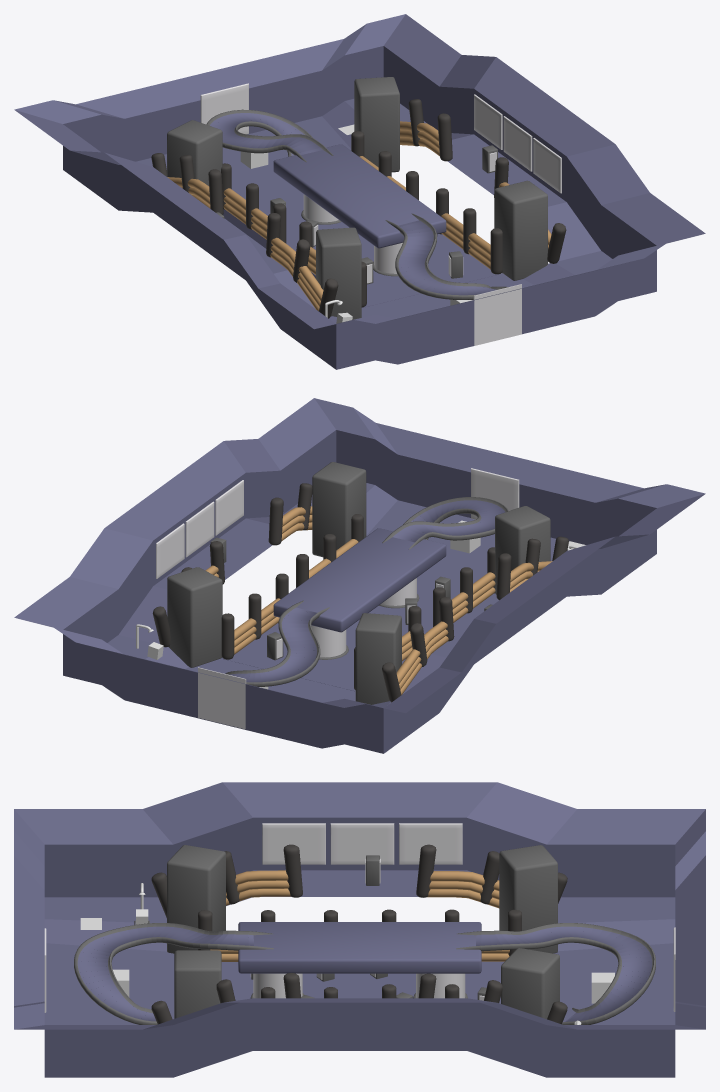
The model's file is NewMap.glb.
3 renders of one model, top to bottom at view 1: azimuth 30°, elevation 25°; view 2: azimuth 150°, elevation 25°; view 3: azimuth 270°, elevation 25°, orthographic. The views are drawn at different scales.
Visible parts, largest first — view 1: Plane.001, Cube, Plane, Cube.008, Cube.010, DummyRamp.001, DummyRamp.004, Cube.009, Cube.011, Cube.014, SO_INDICATOR_INCLUDEMESH_CYLINDER_TEAM2_.001, SO_INDICATOR_INCLUDEMESH_CYLINDER_TEAM2_.004 (+15 smaller); view 2: Plane.001, Cube, Cube.010, Plane, Cube.008, Cube.011, DummyRamp.001, DummyRamp.004, Cube.009, Cube.001, Cube.014, SO_INDICATOR_INCLUDEMESH_CYLINDER_TEAM1_.001 (+15 smaller); view 3: Plane.001, Cube, DummyRamp.004, DummyRamp.001, Cube.009, Cube.011, Plane, Cube.010, Cube.008, Cube.005, Cube.007, Cube.006 (+12 smaller).
Part boxes in pixels (<box>): Plane.001: <box>14,14,705,369</box>; Cube: <box>273,144,446,248</box>; Plane: <box>223,188,498,307</box>; Cube.008: <box>494,180,547,280</box>; Cube.010: <box>354,77,399,172</box>; DummyRamp.001: <box>385,213,508,299</box>; DummyRamp.004: <box>206,109,333,162</box>; Cube.009: <box>316,227,361,319</box>; Cube.011: <box>167,120,222,185</box>; Cube.014: <box>473,284,521,345</box>; SO_INDICATOR_INCLUDEMESH_CYLINDER_TEAM2_.001: <box>436,188,502,274</box>; SO_INDICATOR_INCLUDEMESH_CYLINDER_TEAM2_.004: <box>266,213,338,318</box>; Plane.001: <box>14,398,705,753</box>; Cube: <box>273,528,446,632</box>; Cube.010: <box>167,567,222,667</box>; Plane: <box>221,572,498,691</box>; Cube.008: <box>312,462,366,557</box>; Cube.011: <box>355,613,401,704</box>; DummyRamp.001: <box>382,497,508,549</box>; DummyRamp.004: <box>225,600,329,686</box>; Cube.009: <box>495,506,550,594</box>; Cube.001: <box>198,667,246,729</box>; Cube.014: <box>471,468,519,519</box>; SO_INDICATOR_INCLUDEMESH_CYLINDER_TEAM1_.001: <box>382,597,454,702</box>; Plane.001: <box>14,782,705,1077</box>; Cube: <box>238,922,481,973</box>; DummyRamp.004: <box>456,923,655,1024</box>; DummyRamp.001: <box>74,923,273,1024</box>; Cube.009: <box>167,845,225,953</box>; Cube.011: <box>499,845,557,953</box>; Plane: <box>221,961,504,1003</box>; Cube.010: <box>501,948,559,1019</box>; Cube.008: <box>174,950,221,1018</box>; Cube.005: <box>330,823,394,864</box>; Cube.007: <box>399,823,462,864</box>; Cube.006: <box>262,823,325,864</box>.
Bounding box in the file's own units: 52.55 × 12.67 × 69.69.
